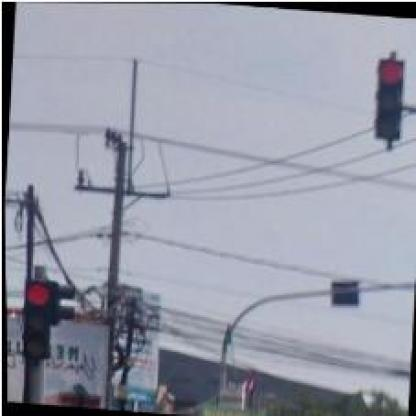red: (17, 279, 53, 359), (371, 58, 406, 140)
